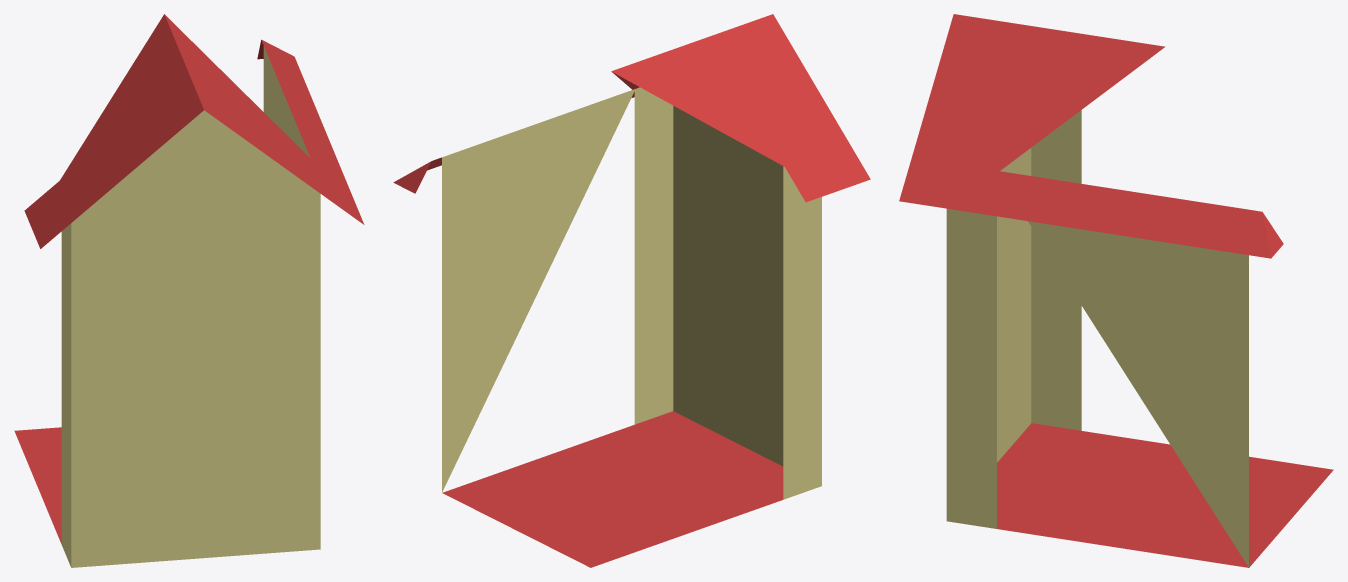
3 views of the same model, side by side, from view 1: azimuth 30°, elevation 25°; view 2: azimuth 150°, elevation 25°; view 3: azimuth 270°, elevation 25° (orthographic). The views are drawn at different scales.
Bounding box in the file's own units: 8.86 × 8.8 × 10.13.
